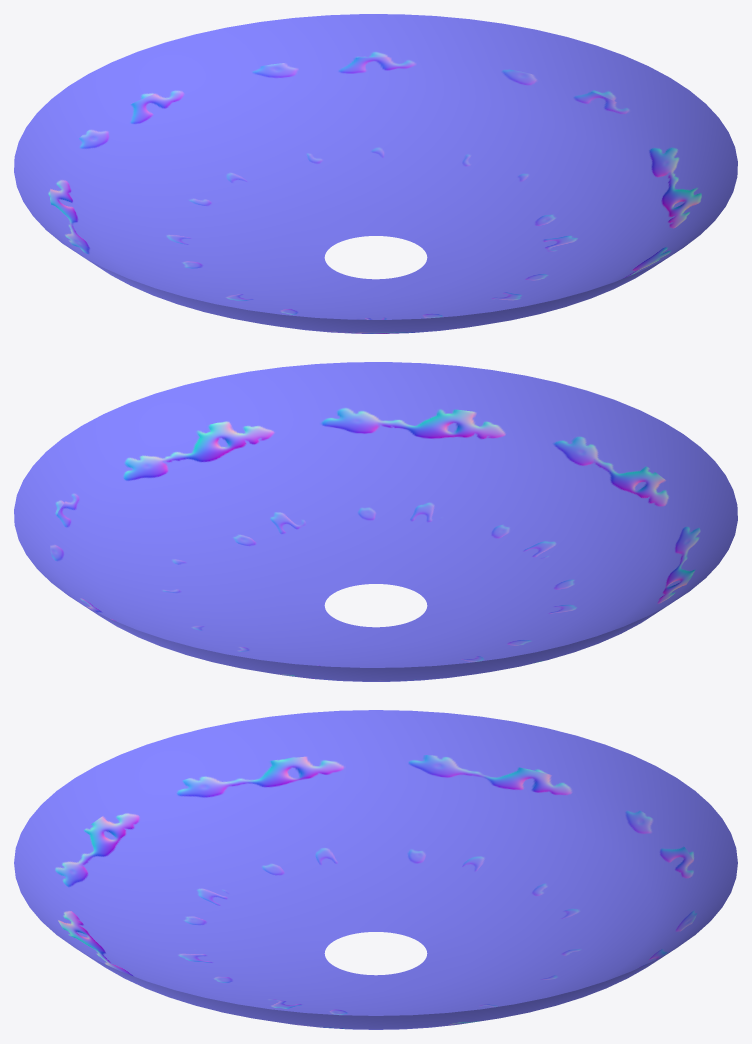
The model's file is roar_blowingGoo.fbx.
3 views of the same model, one above another, from view 1: azimuth 30°, elevation 25°; view 2: azimuth 150°, elevation 25°; view 3: azimuth 270°, elevation 25° (orthographic).
Visible parts, largest first — view 1: ref.001; view 2: ref.001; view 3: ref.001.
Part boxes in pixels (x1,y1,x2,y2): ref.001: [14, 14, 737, 333]; ref.001: [14, 362, 737, 681]; ref.001: [14, 710, 737, 1029].
Size of the model in its own units: 397 by 54.79 by 397.
